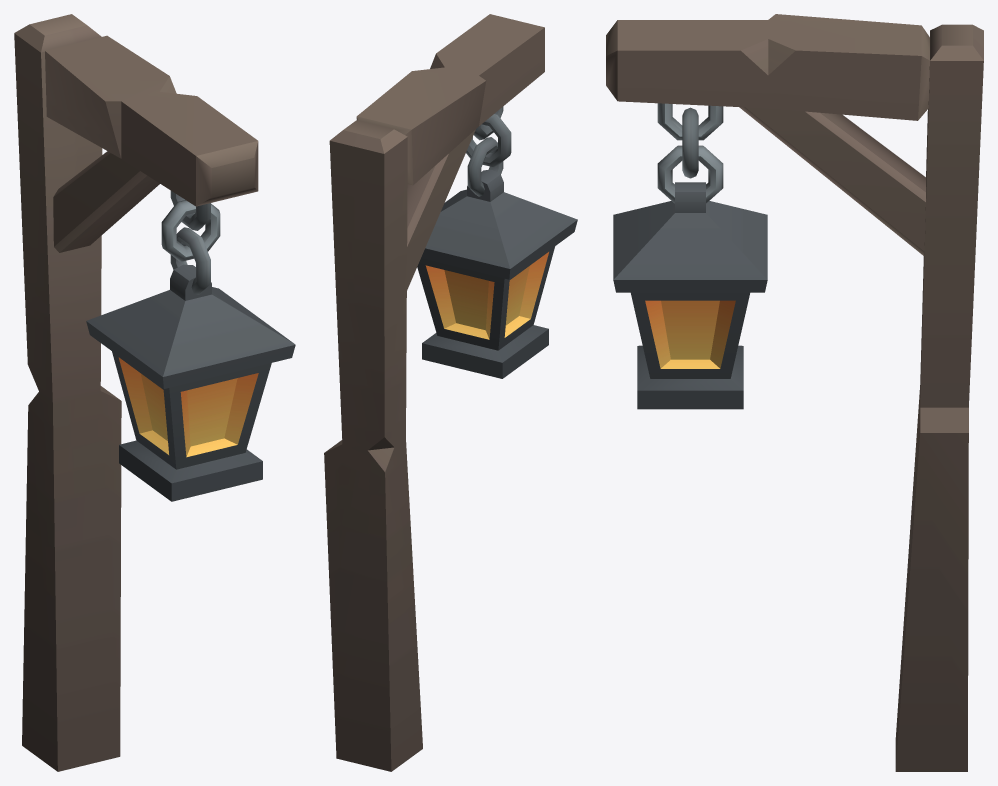
File: post-lantern-kaylousberg.glb
3 views of the same model, side by side, from view 1: azimuth 30°, elevation 25°; view 2: azimuth 150°, elevation 25°; view 3: azimuth 270°, elevation 25° (orthographic). The views are drawn at different scales.
Parts seen in each view (by area): view 1: post_lantern; view 2: post_lantern; view 3: post_lantern.
Part boxes in pixels (<box>): post_lantern: <box>14,14,295,771</box>; post_lantern: <box>324,14,577,771</box>; post_lantern: <box>606,14,983,771</box>.
Bounding box in the file's own units: 0.6401 × 3.3 × 1.57.
1 material, 1 textured.
